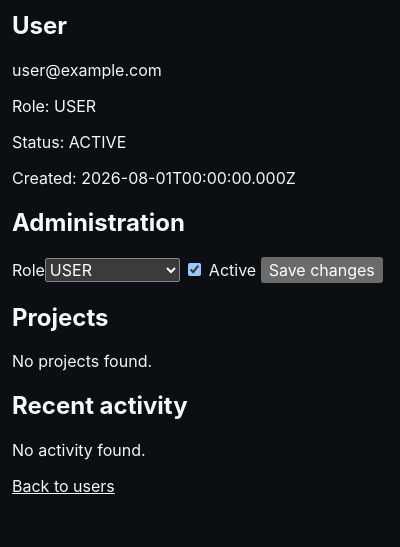
Scenario: UserDetailsPage › loads administrative controls and submits role/status changes through the SDK
Expected: the text "user@example.com" is shown, 12,60 -> 162,80
Select "ADMIN" in the dropdown labelled "Role": (112, 270) 45,258 -> 180,282
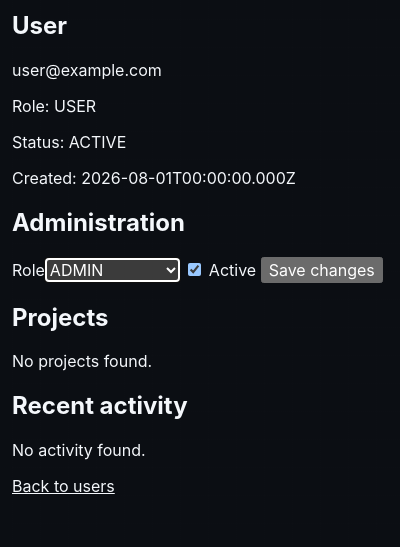
Click the checkbox labelled "Active": click(195, 269) 188,263 -> 201,276
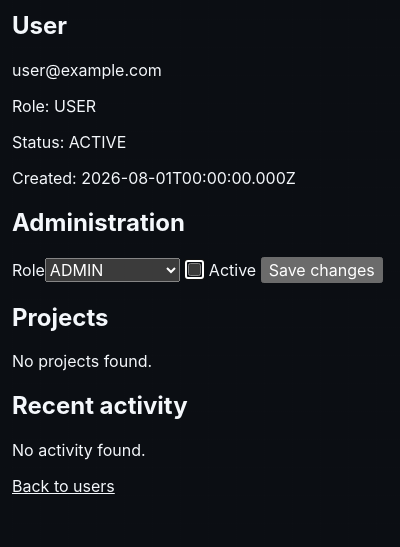
Click the button "Save changes": click(322, 270) 261,257 -> 383,283
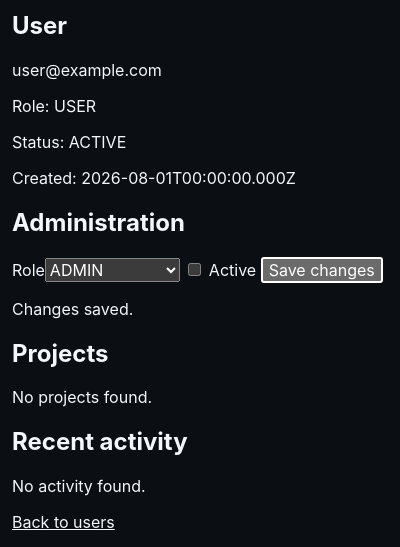
Result: the message reads "Changes saved." at 12,299 -> 133,319
